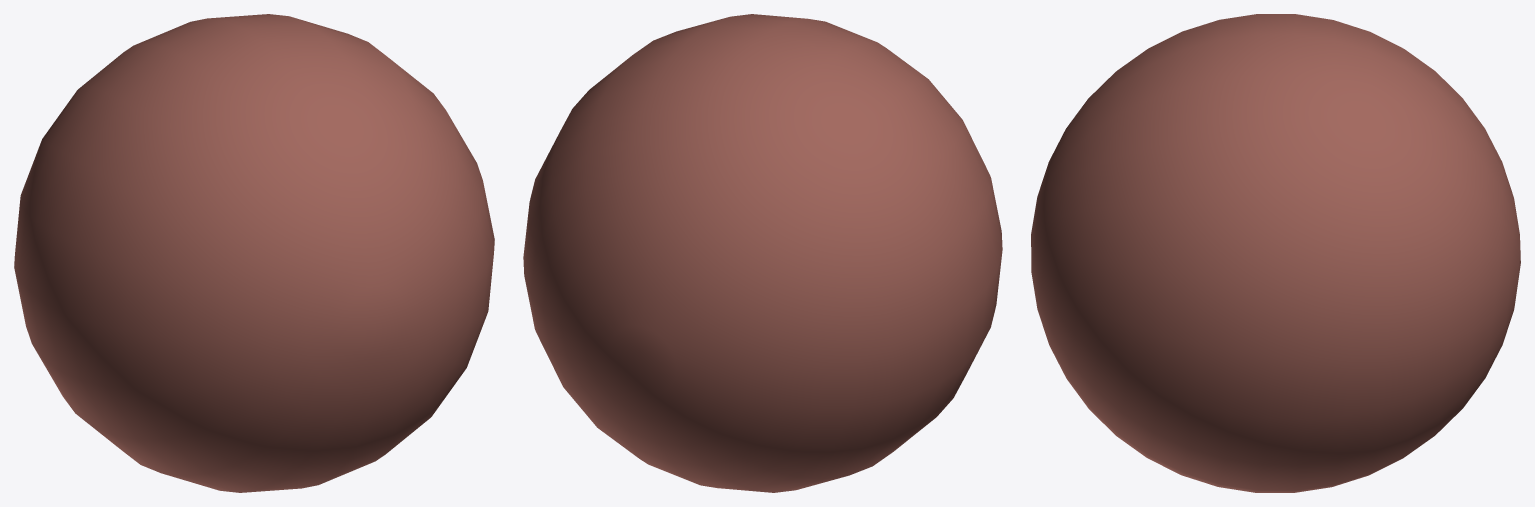
Rendered from mixamo_humanoid_joint_leftUpLeg.fbx.
3 views of the same model, side by side, from view 1: azimuth 30°, elevation 25°; view 2: azimuth 150°, elevation 25°; view 3: azimuth 270°, elevation 25° (orthographic).
Parts seen in each view (by area): view 1: joint_LeftUpLeg; view 2: joint_LeftUpLeg; view 3: joint_LeftUpLeg.
Boxes of the visible parts, bbox=[...] form: joint_LeftUpLeg: bbox=[14, 14, 494, 492]; joint_LeftUpLeg: bbox=[523, 14, 1002, 492]; joint_LeftUpLeg: bbox=[1031, 14, 1520, 492].
Bounding box in the file's own units: 16.97 × 16.93 × 17.17.
